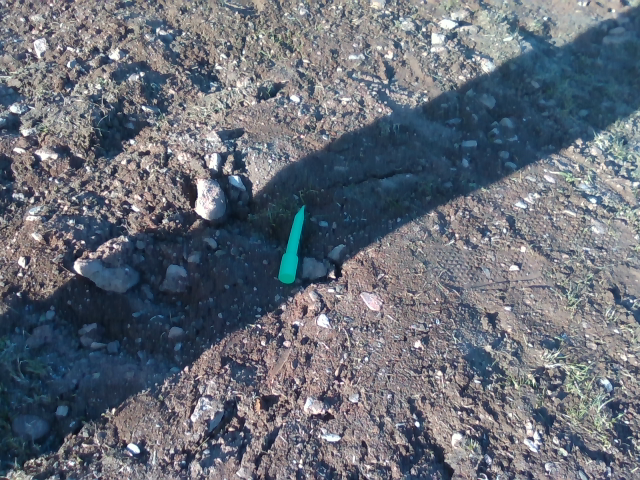Probe: (274, 205, 314, 286)
